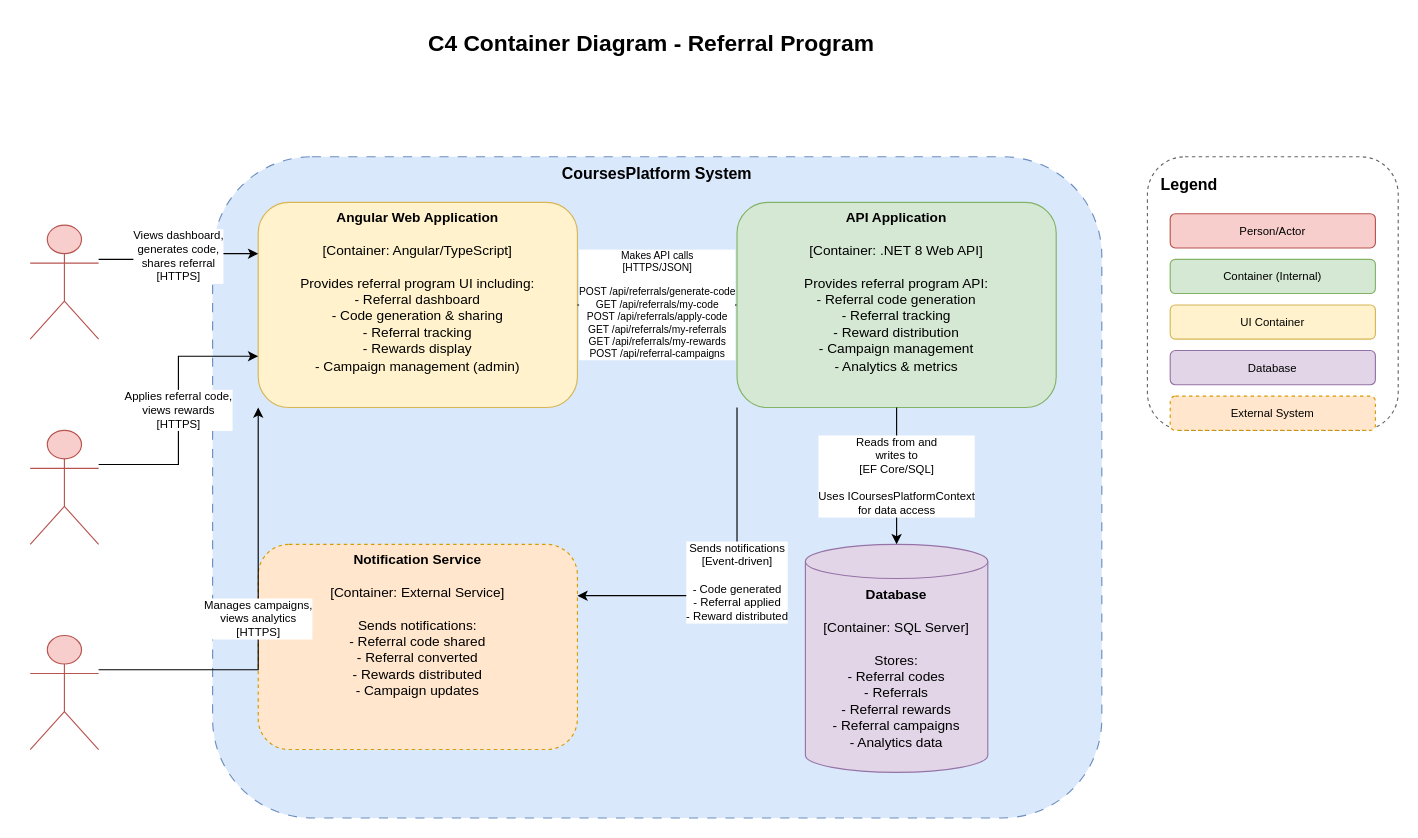
This 1418x838 diagram has some shape labels left out. The shapes that lost their labels are listed below. From the top down, each one's centre as x and y in pixels, then its label:
the point at 64,281: Referrer (Existing User)
the point at 64,486: Referee (New User)
the point at 64,692: Administrator
